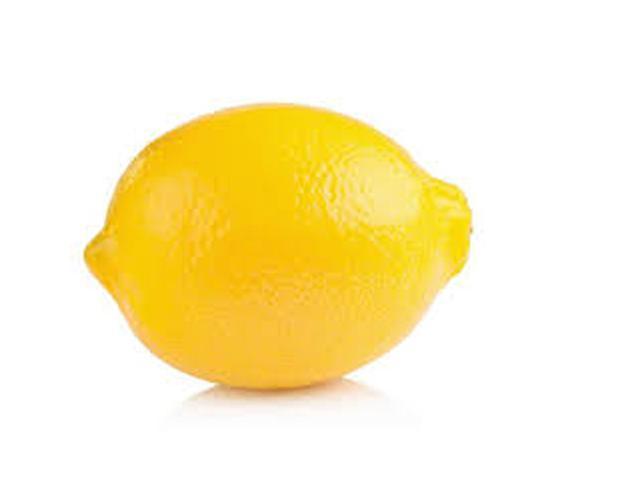lemon: (62, 87, 504, 379)
